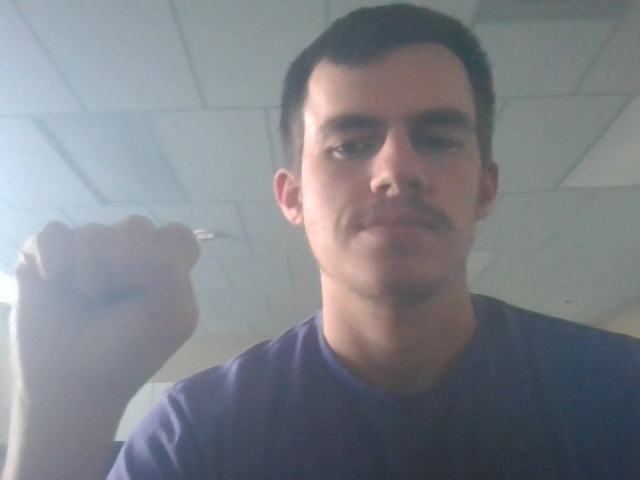yes: (9, 207, 220, 404)
